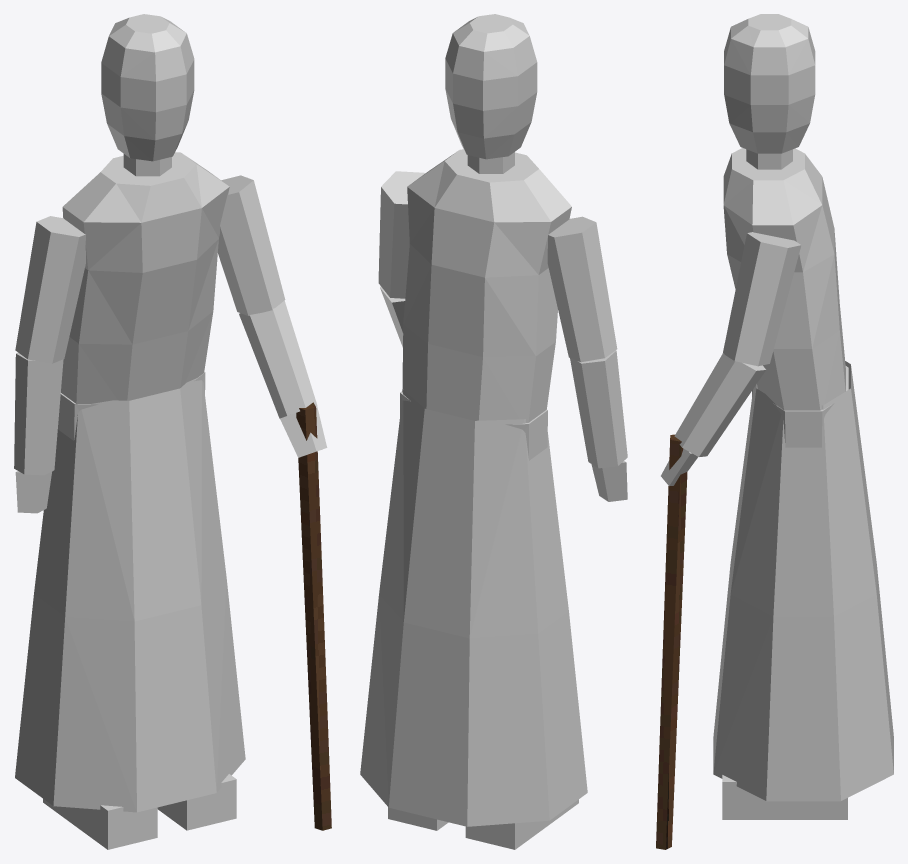
File: anciana.obj
3 renders of one model, left to right at view 1: azimuth 30°, elevation 25°; view 2: azimuth 150°, elevation 25°; view 3: azimuth 270°, elevation 25°, orthographic. The views are drawn at different scales.
Visible parts, largest first — view 1: anciana; view 2: anciana; view 3: anciana.
Boxes of the visible parts, x1,y1,x2,y2 form: anciana: (14, 14, 331, 849); anciana: (360, 14, 627, 849); anciana: (656, 14, 893, 849).
Size of the model in its own units: 0.5707 by 1.64 by 0.4617.
Materials: 2 (1 with a texture image).
